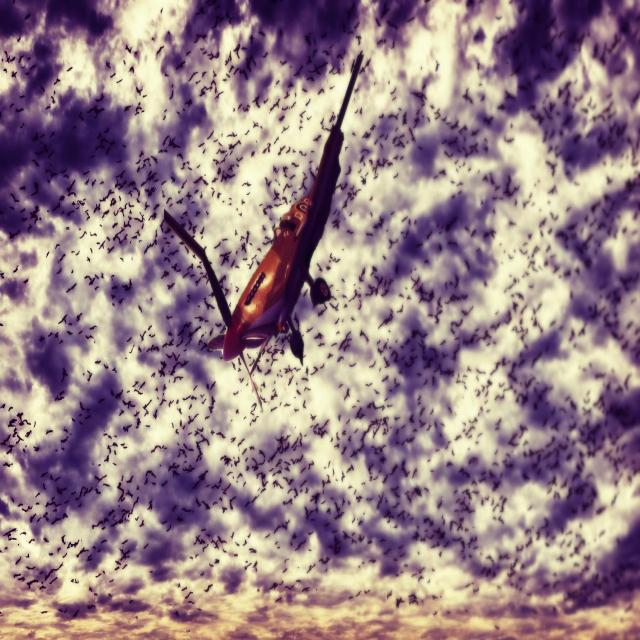airplane: (162, 48, 364, 412)
